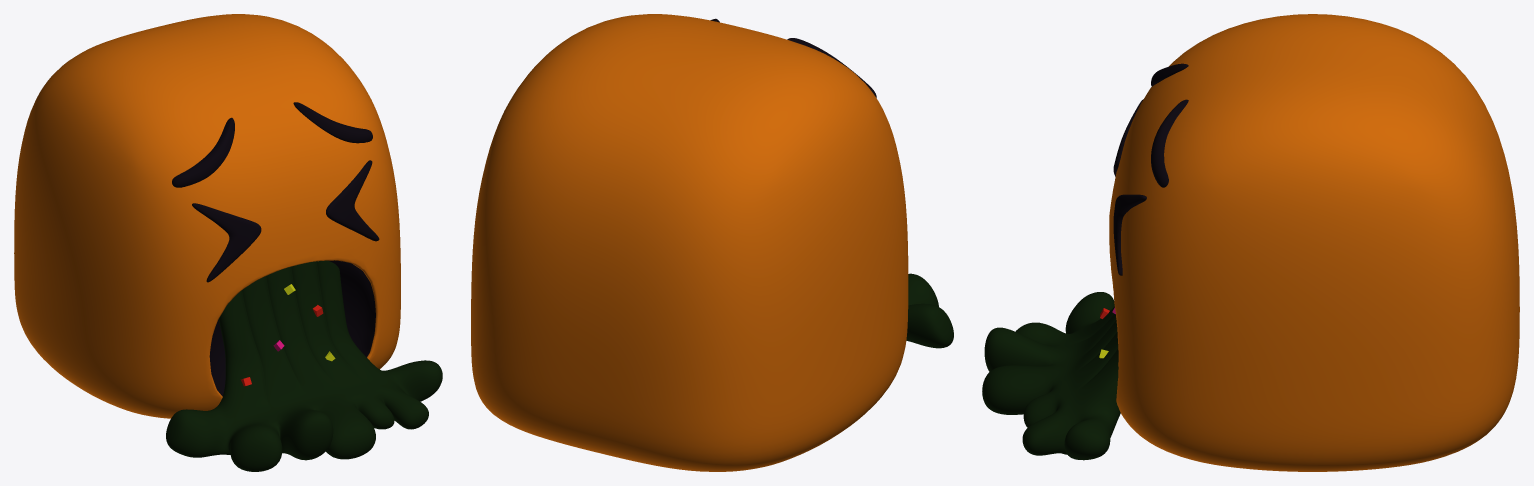
Rendered from Emoji 060 face vomiting.fbx.
The picture shows the model from 3 angles, left to right: view 1: azimuth 30°, elevation 25°; view 2: azimuth 150°, elevation 25°; view 3: azimuth 270°, elevation 25°; orthographic projection. The views are drawn at different scales.
Parts seen in each view (by area): view 1: Emoji 060 face vomiting, Cube.122, Eyes.087, Cube.121; view 2: Emoji 060 face vomiting, Cube.122; view 3: Emoji 060 face vomiting, Cube.122, Cube.121, Eyes.087.
Boxes of the visible parts, x1=… form: Emoji 060 face vomiting: x1=14, y1=14, x2=400, y2=418; Cube.122: x1=166, y1=260, x2=442, y2=471; Eyes.087: x1=192, y1=160, x2=379, y2=282; Cube.121: x1=172, y1=102, x2=372, y2=187; Emoji 060 face vomiting: x1=471, y1=14, x2=908, y2=471; Cube.122: x1=906, y1=273, x2=953, y2=348; Emoji 060 face vomiting: x1=1109, y1=14, x2=1519, y2=471; Cube.122: x1=982, y1=292, x2=1120, y2=460; Cube.121: x1=1151, y1=63, x2=1188, y2=187; Eyes.087: x1=1113, y1=99, x2=1146, y2=275.
Bounding box in the file's own units: 95.56 × 130 × 95.56.
